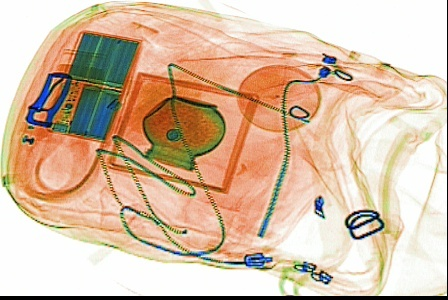powerbank: (43, 29, 145, 145)
